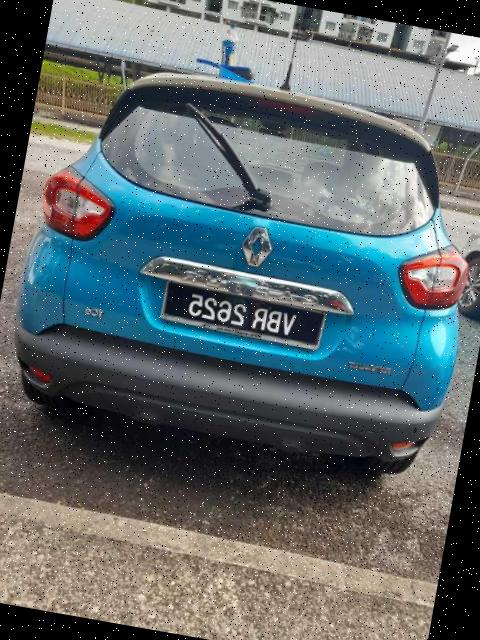License_Plate: (158, 280, 328, 352)
car: (1, 48, 480, 486)
